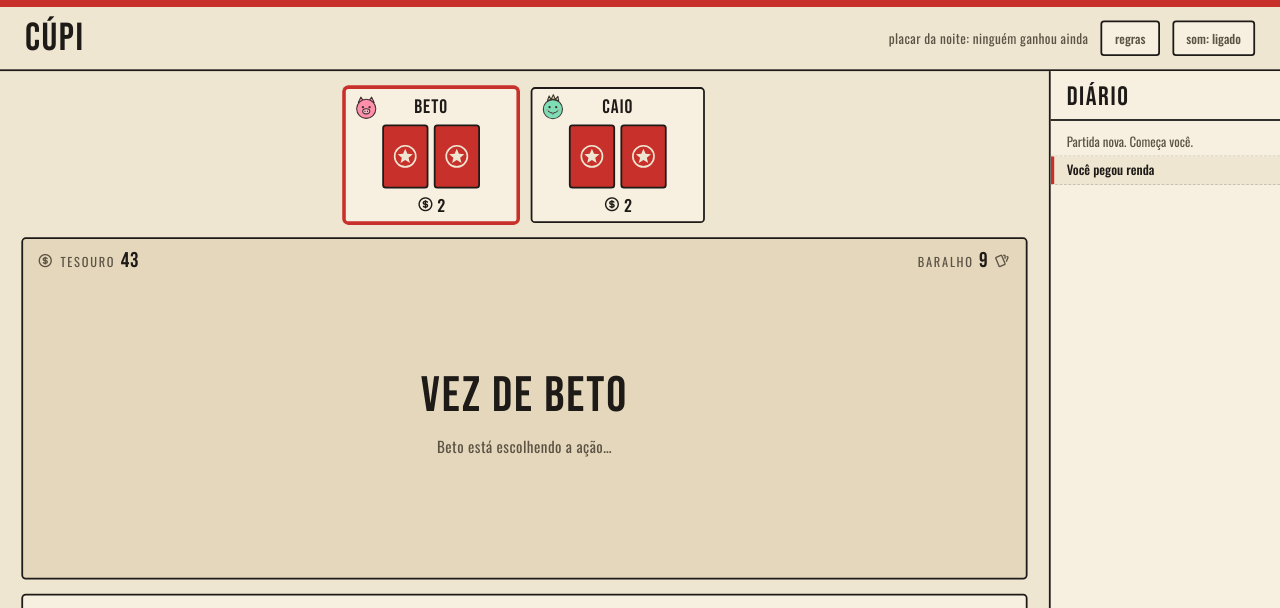
Test: Cúpi: botão "regras" e a colinha › "fechar" fecha e o foco volta pro botão
The image size is (1280, 608).
What coordinates should you click on to do the following:
click the button "regras"
I would click on:
 (1130, 38)
Its box is [1101,20,1160,56].
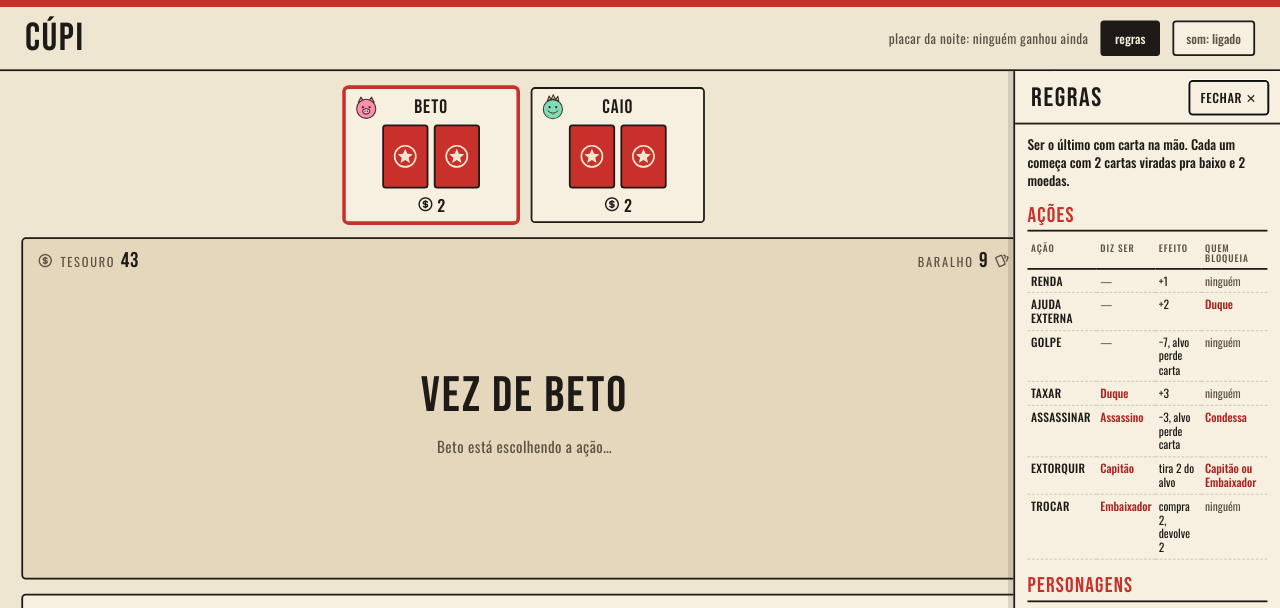
What coordinates should you click on to do the following:
click the button "fechar ✕"
I would click on:
 (1229, 98)
Its box is [1188,80,1269,116].
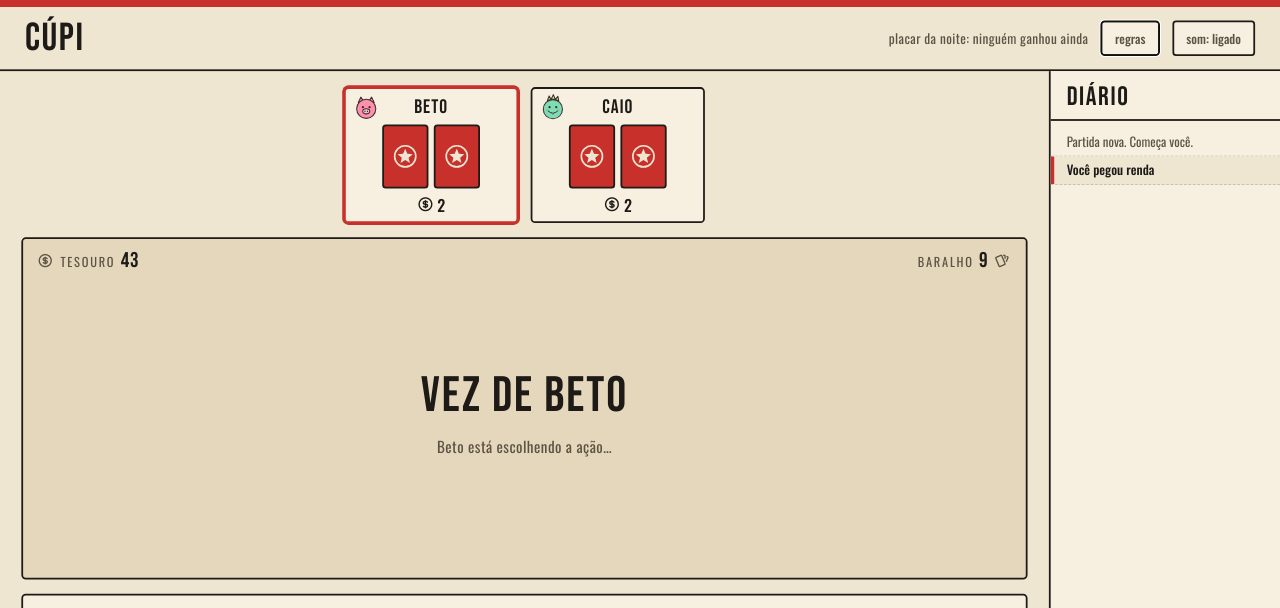
Expected: the button "regras" is collapsed, [1101,20,1160,56]
